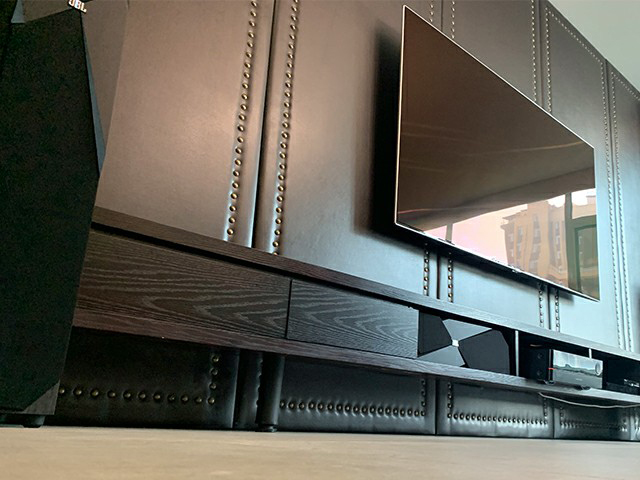cabinet: (71, 203, 640, 435)
